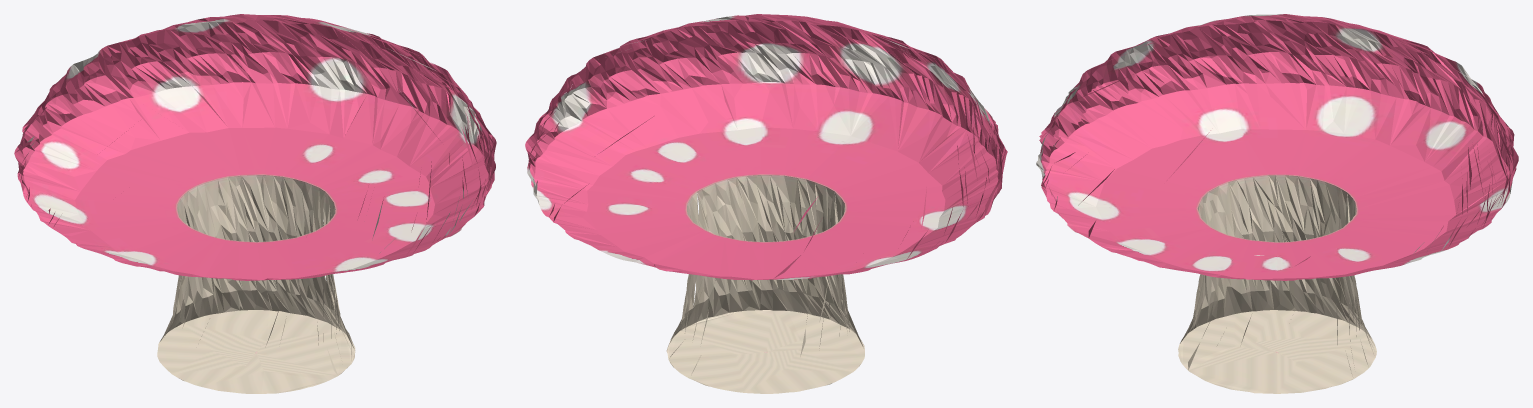
File: mushroom-stool.glb
3 views of the same model, side by side, from view 1: azimuth 30°, elevation 25°; view 2: azimuth 150°, elevation 25°; view 3: azimuth 270°, elevation 25° (orthographic).
Parts seen in each view (by area): view 1: mushroom; view 2: mushroom; view 3: mushroom.
Part boxes in pixels (bbox=[...]): mushroom: bbox=[14, 14, 496, 393]; mushroom: bbox=[525, 14, 1007, 393]; mushroom: bbox=[1036, 14, 1518, 393].
Size of the model in its own units: 0.9696 by 0.675 by 0.9709.
Materials: 1 (1 with a texture image).
